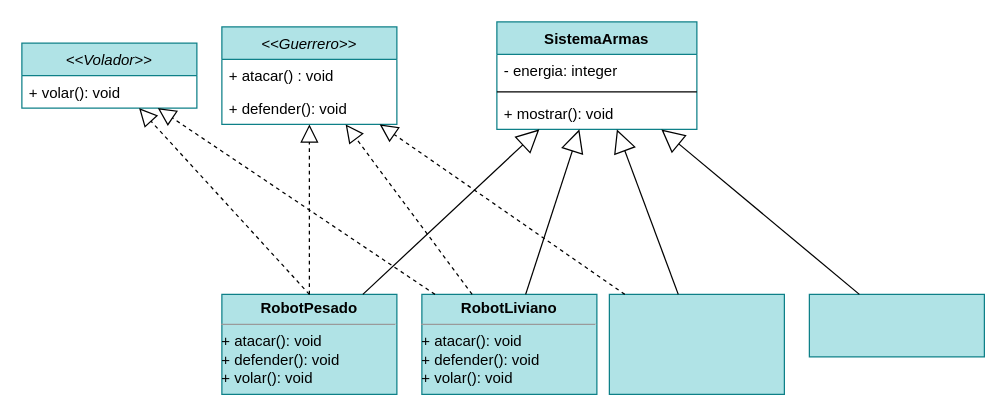
The diagram is 1006 pixels wide and 416 high, and some of its shapes have lost their labels. Each missing label, with the centre of its shape:
Señuelo: (896,325)
Tanque + atacar(): void + defender(): void: (696,343)
